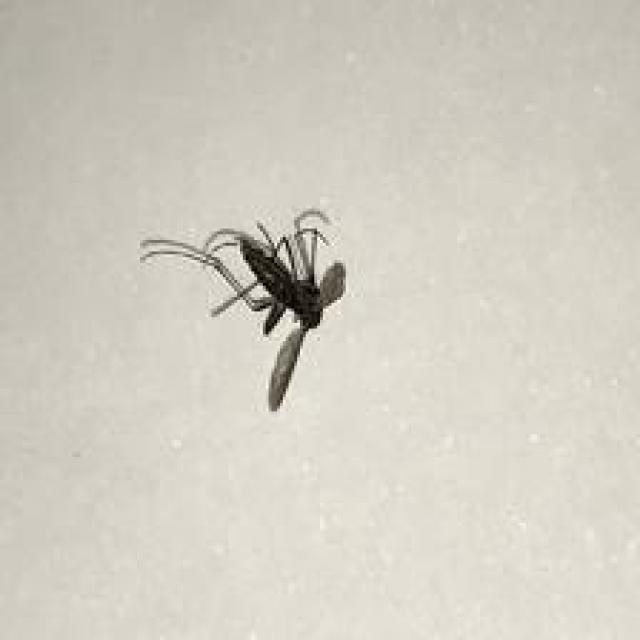Aedes albopictus: (139, 206, 347, 411)
